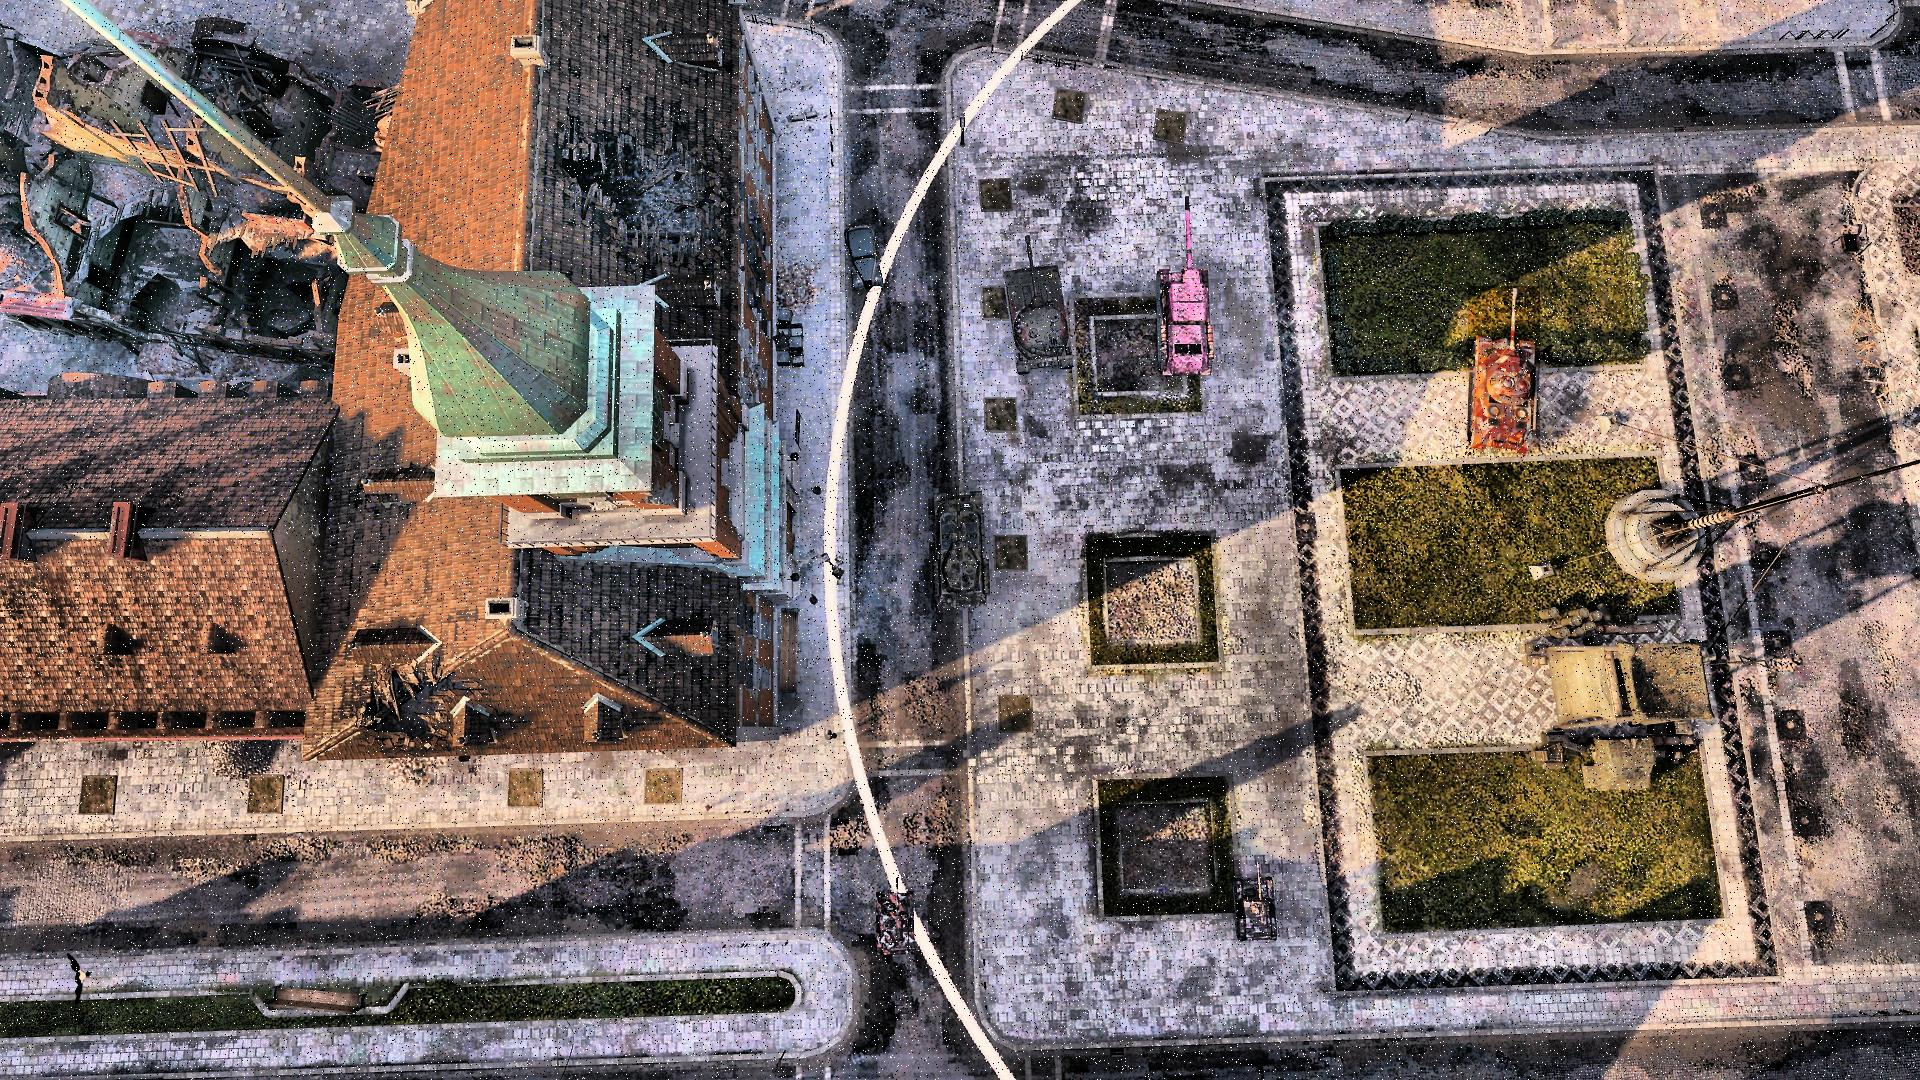military-vehicle: (1153, 190, 1217, 380), (1468, 286, 1540, 455), (998, 235, 1079, 373), (1233, 860, 1283, 943), (877, 878, 920, 964)
